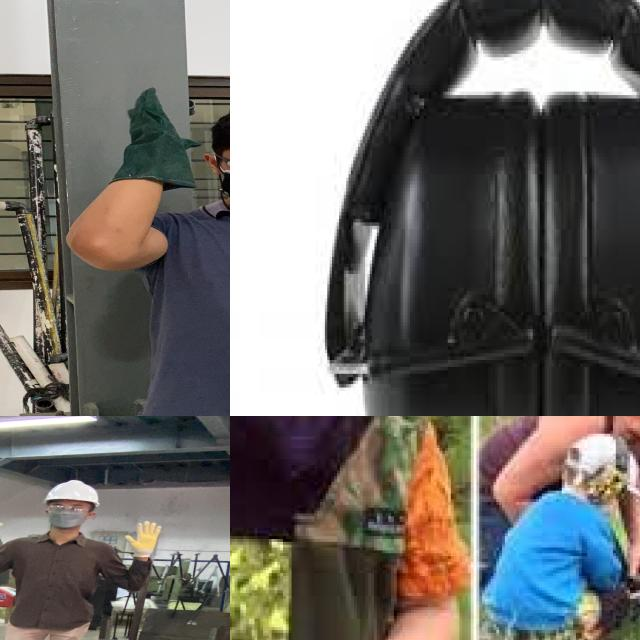Ear-protection: (353, 77, 537, 416), (537, 77, 640, 416), (579, 456, 627, 511)
face_mask: (46, 502, 91, 528)
glasses: (42, 502, 94, 514)
hand_glove: (113, 90, 210, 187), (123, 519, 169, 553)
head_helmet: (40, 478, 102, 504)
person: (46, 79, 230, 416), (230, 416, 474, 640), (0, 479, 167, 640)
